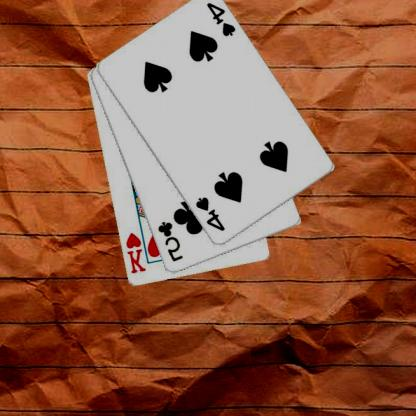4S: (194, 194, 228, 232), (206, 0, 238, 38)
5C: (156, 219, 186, 263)
KH: (125, 230, 149, 275)
